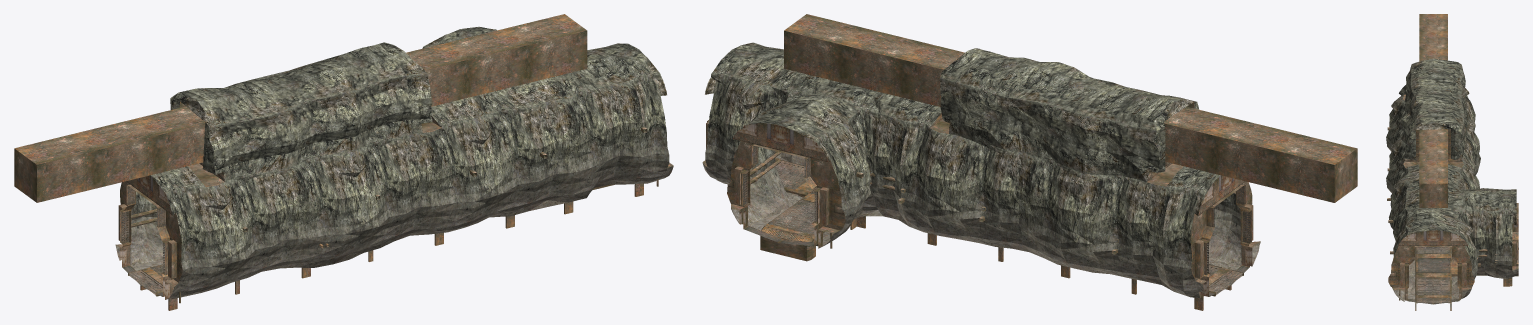
The model's file is poi_all_bunker_allum_mine_r52_hall52_mesh_r52.fbx.
3 views of the same model, side by side, from view 1: azimuth 30°, elevation 25°; view 2: azimuth 150°, elevation 25°; view 3: azimuth 270°, elevation 25° (orthographic). The views are drawn at different scales.
Visible parts, largest first — view 1: mesh_node; view 2: mesh_node; view 3: mesh_node.
Boxes of the visible parts, x1,y1,x2,y2 form: mesh_node: (14, 14, 673, 310); mesh_node: (702, 14, 1357, 310); mesh_node: (1386, 14, 1518, 310).
Size of the model in its own units: 37.03 by 10.82 by 10.92.
